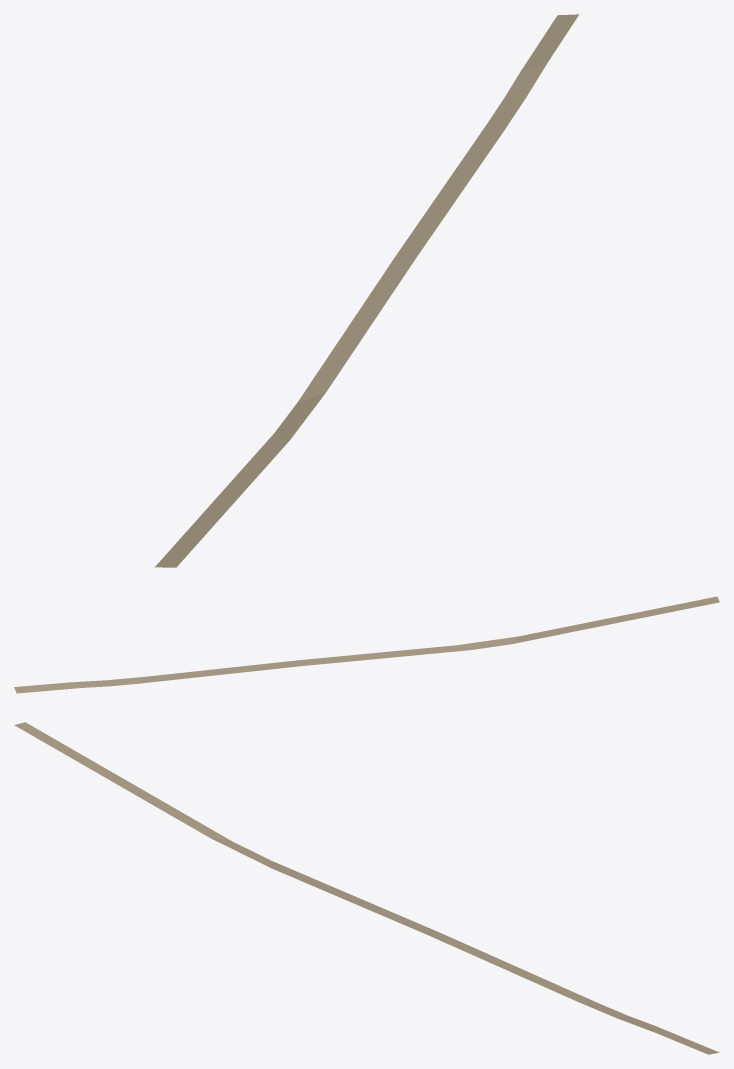
The model's file is farm_-6_-5_track.glb.
3 views of the same model, one above another, from view 1: azimuth 30°, elevation 25°; view 2: azimuth 150°, elevation 25°; view 3: azimuth 270°, elevation 25° (orthographic). The views are drawn at different scales.
Visible parts, largest first — view 1: geometry_0; view 2: geometry_0; view 3: geometry_0.
Boxes of the visible parts, x1=… form: geometry_0: x1=155, y1=14, x2=578, y2=567; geometry_0: x1=14, y1=596, x2=719, y2=693; geometry_0: x1=14, y1=722, x2=719, y2=1054.
Bounding box in the file's own units: 153 × 7.33 × 147.
